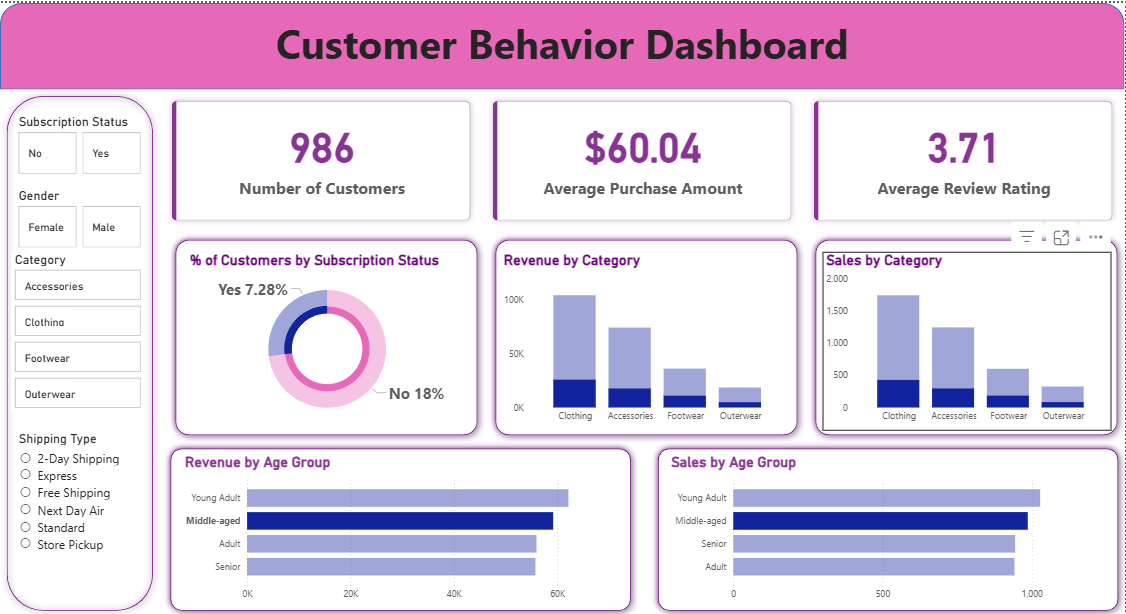

What the dashboard file says about the page in this screenshot:
{"tool":"powerbi","page":{"name":"Page 1","canvas":[1500,820],"ordinal":0},"visuals":[{"type":"cardVisual","fields":{"Data":["public customer.Number of Customers","public customer.Average Purchase Amount","public customer.Average Review Rating"]},"box":[212.9,115.3,1286.5,191.6],"z":2000},{"type":"shape","box":[218.3,585.6,631.7,234.2],"z":2500,"group":"g1"},{"type":"shape","box":[0,0,1499.4,115.3],"z":3000},{"type":"textbox","box":[0,12.4,1499.4,102.9],"z":4000},{"type":"shape","box":[225.4,307,420.5,278.6],"z":5000},{"type":"donutChart","title":"% of Customers by Subscription Status","fields":{"Category":["public customer.subscription_status"],"Y":["CountNonNull(public customer.customer_id)"]},"box":[248.4,331.8,376.2,237.8],"z":6000},{"type":"shape","box":[1078.9,307,420.5,278.6],"z":7000},{"type":"shape","box":[652.1,307,420.5,278.6],"z":8000},{"type":"clusteredColumnChart","title":"Revenue by Category","fields":{"Y":["Sum(public customer.purchase_amount)"],"Category":["public customer.category"]},"box":[667.2,331.8,385.1,237.8],"z":9000},{"type":"clusteredColumnChart","title":"Sales by Category","fields":{"Y":["CountNonNull(public customer.customer_id)"],"Category":["public customer.category"]},"box":[1096.6,331.8,385.1,237.8],"z":10000},{"type":"shape","box":[0,115.3,212.9,704.5],"z":11000},{"type":"advancedSlicerVisual","fields":{"Values":["public customer.subscription_status"]},"box":[20,148.3,173.3,85],"z":12000},{"type":"advancedSlicerVisual","fields":{"Values":["public customer.gender"]},"box":[20,246.7,173.3,85],"z":13000},{"type":"advancedSlicerVisual","fields":{"Values":["public customer.category"]},"box":[15,331.7,178.3,213.3],"z":14000},{"type":"listSlicer","fields":{"Values":["public customer.shipping_type"]},"box":[19.5,569.6,168.6,220],"z":15000},{"type":"shape","box":[867.7,585.6,631.7,234.2],"z":16000},{"type":"clusteredBarChart","title":"Sales by Age Group","fields":{"Y":["CountNonNull(public customer.customer_id)"],"Category":["public customer.age_group"]},"box":[890.8,601.5,585.6,204.1],"z":17000},{"type":"clusteredBarChart","title":"Revenue by Age Group","fields":{"Y":["Sum(public customer.purchase_amount)"],"Category":["public customer.age_group"]},"box":[241.4,601.6,585.6,204.1],"z":17500,"group":"g1"},{"type":"group","id":"g1","title":"Group 1","box":[218.3,585.6,631.7,234.2],"z":17501}]}

Visuals, with their boxes in screenshot pixels (x1, y1, x2, y2), scaled from the page's 1500x820 canvas onto the 1126x614 screenshot:
cardVisual - public customer.Number of Customers x public customer.Average Purchase Amount: {"left": 160, "top": 86, "right": 1125, "bottom": 230}
shape: {"left": 164, "top": 438, "right": 638, "bottom": 613}
shape: {"left": 0, "top": 0, "right": 1125, "bottom": 86}
textbox: {"left": 0, "top": 9, "right": 1125, "bottom": 86}
shape: {"left": 169, "top": 230, "right": 485, "bottom": 438}
"% of Customers by Subscription Status" donutChart: {"left": 186, "top": 248, "right": 469, "bottom": 427}
shape: {"left": 810, "top": 230, "right": 1125, "bottom": 438}
shape: {"left": 490, "top": 230, "right": 805, "bottom": 438}
"Revenue by Category" clusteredColumnChart: {"left": 501, "top": 248, "right": 790, "bottom": 427}
"Sales by Category" clusteredColumnChart: {"left": 823, "top": 248, "right": 1112, "bottom": 427}
shape: {"left": 0, "top": 86, "right": 160, "bottom": 613}
advancedSlicerVisual - public customer.subscription_status: {"left": 15, "top": 111, "right": 145, "bottom": 175}
advancedSlicerVisual - public customer.gender: {"left": 15, "top": 185, "right": 145, "bottom": 248}
advancedSlicerVisual - public customer.category: {"left": 11, "top": 248, "right": 145, "bottom": 408}
listSlicer - public customer.shipping_type: {"left": 15, "top": 427, "right": 141, "bottom": 591}
shape: {"left": 651, "top": 438, "right": 1125, "bottom": 613}
"Sales by Age Group" clusteredBarChart: {"left": 669, "top": 450, "right": 1108, "bottom": 603}
"Revenue by Age Group" clusteredBarChart: {"left": 181, "top": 450, "right": 621, "bottom": 603}
"Group 1" group: {"left": 164, "top": 438, "right": 638, "bottom": 613}
